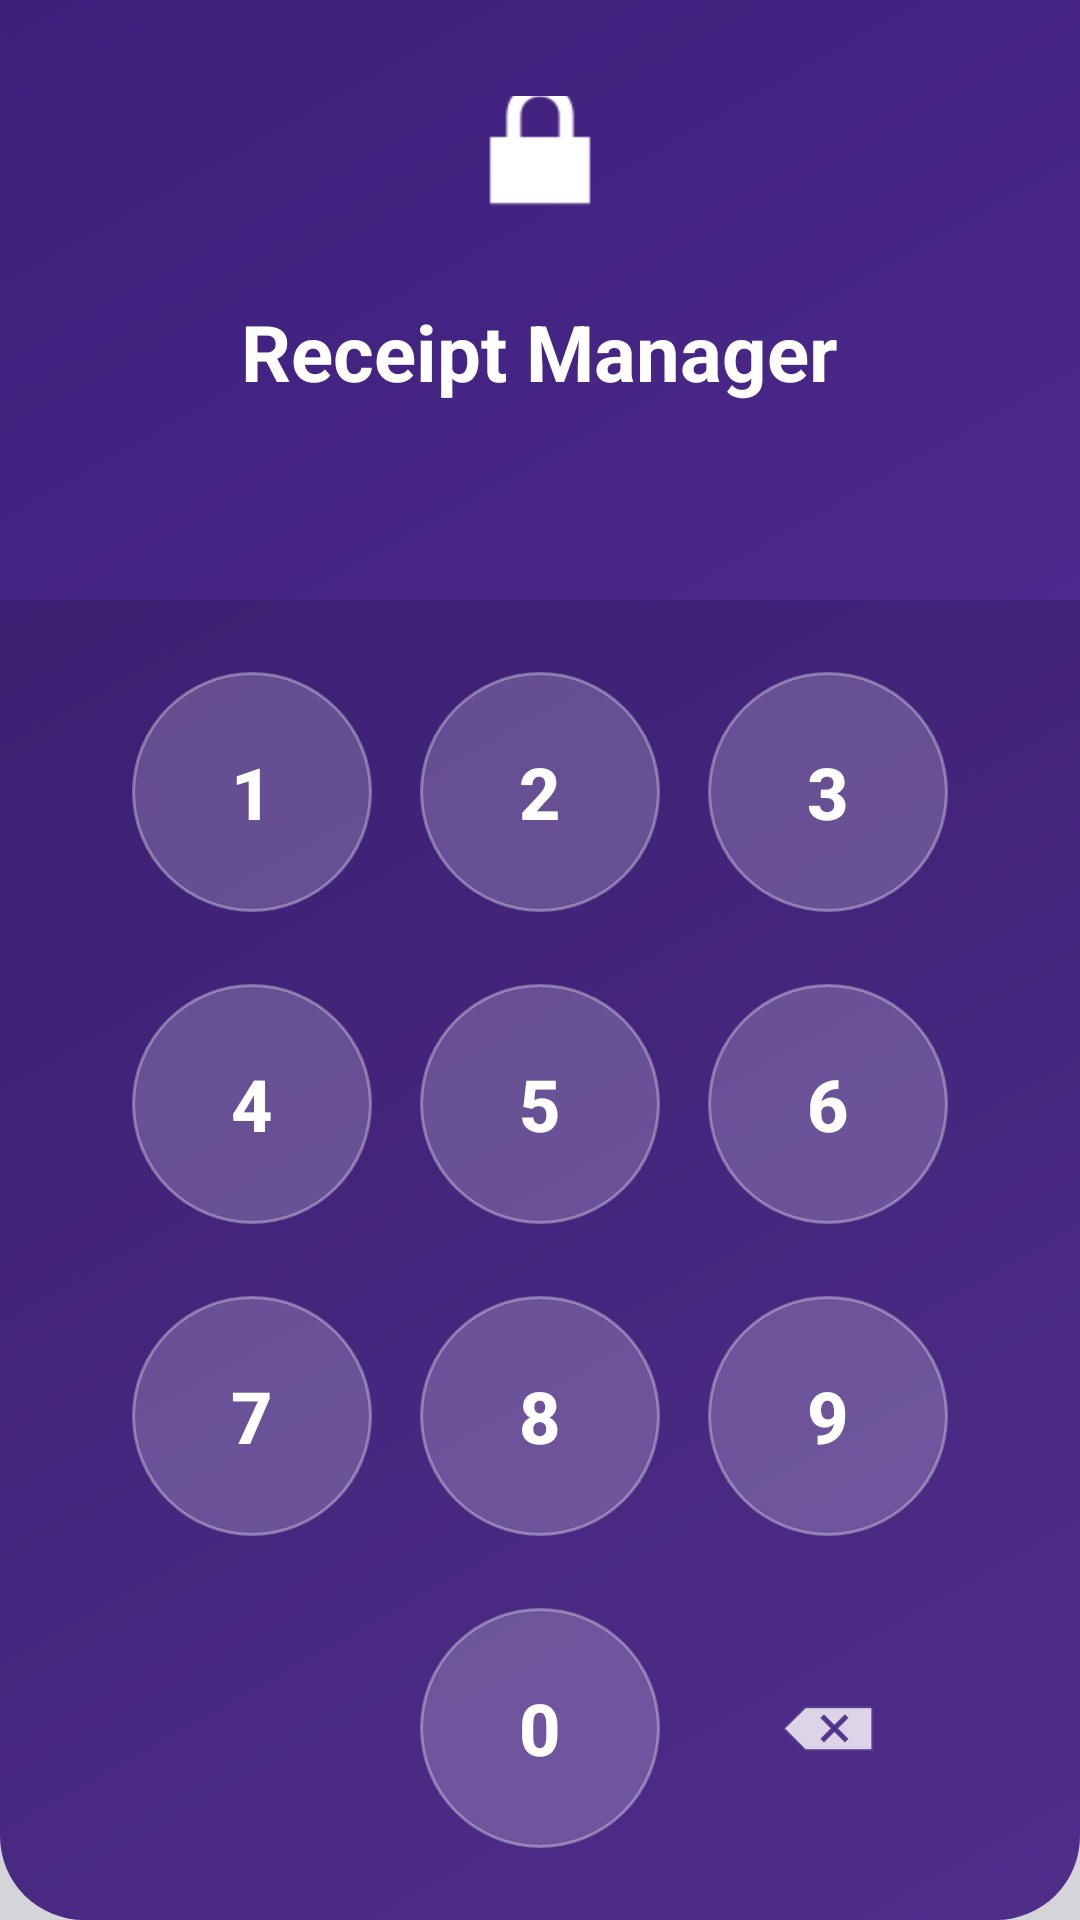

Icons on this 1080×1920 Android screen, each with the point to tap as point (x, y):
delete: point (828, 1729)
lock: point (540, 150)
